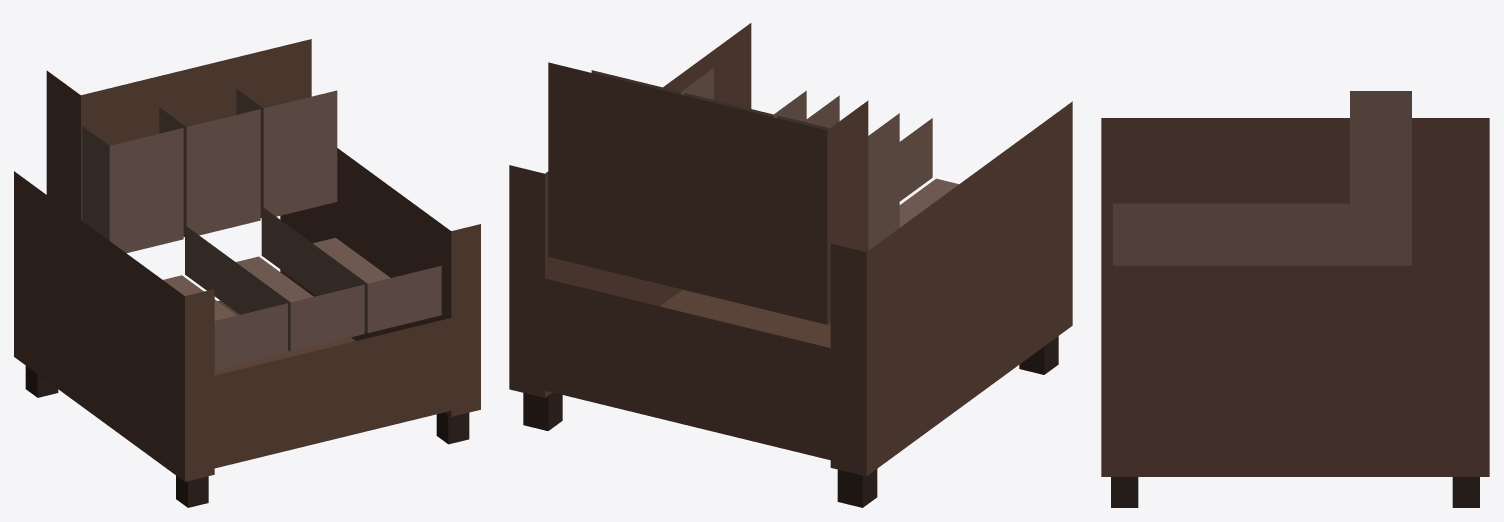
The model's file is Sofa-walnut.glb.
3 renders of one model, left to right at view 1: azimuth 30°, elevation 25°; view 2: azimuth 150°, elevation 25°; view 3: azimuth 270°, elevation 25°, orthographic. The views are drawn at different scales.
Parts seen in each view (by area): view 1: Sofa; view 2: Sofa; view 3: Sofa.
Part boxes in pixels (box(x1,y1,x2,y2)): Sofa: box(14, 39, 480, 507); Sofa: box(509, 23, 1072, 507); Sofa: box(1101, 91, 1489, 507).
Size of the model in its own units: 1 by 1 by 1.
